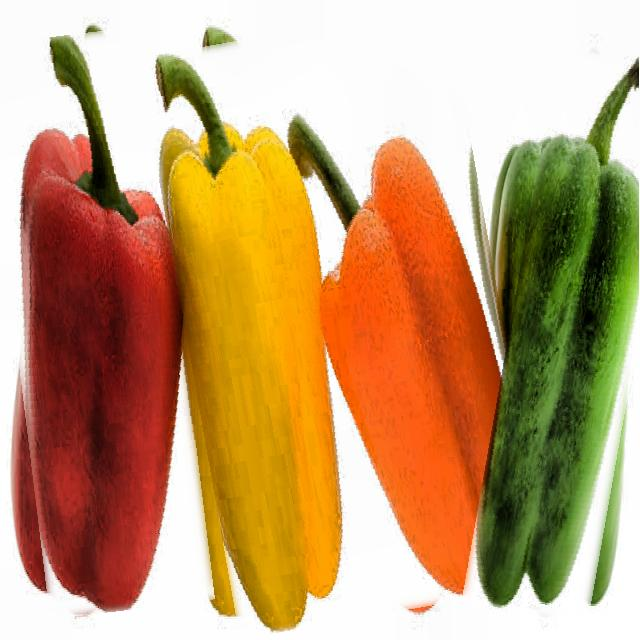capsicum: (163, 16, 525, 628)
green pepper: (485, 44, 640, 625)
red capsicum: (0, 30, 197, 615)
